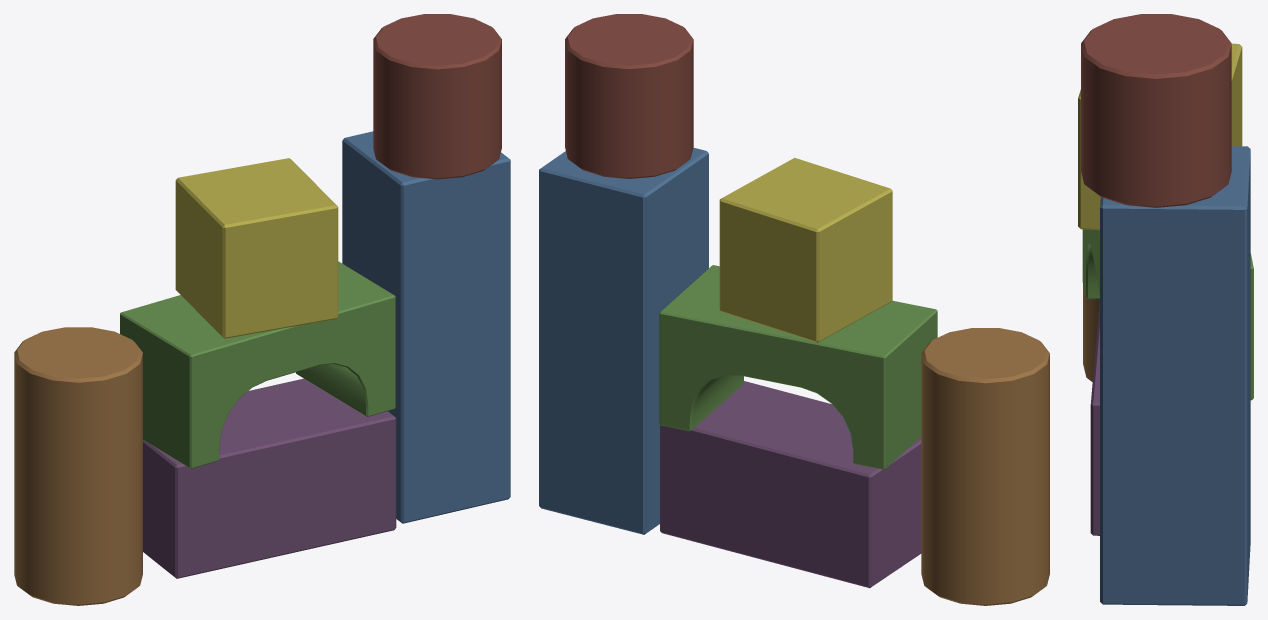
Rendered from Toy_Blocks.fbx.
The picture shows the model from 3 angles, left to right: view 1: azimuth 30°, elevation 25°; view 2: azimuth 150°, elevation 25°; view 3: azimuth 270°, elevation 25°; orthographic projection. The views are drawn at different scales.
Visible parts, largest first — view 1: Blue_3, Purple_2, Orange_Cyl_2, Green_Arch, Yellow_1, Red_Cyl_1; view 2: Blue_3, Purple_2, Orange_Cyl_2, Green_Arch, Yellow_1, Red_Cyl_1; view 3: Blue_3, Red_Cyl_1, Yellow_1, Purple_2, Green_Arch, Orange_Cyl_2.
Part boxes in pixels (box(x1,y1,x2,y2)): Blue_3: box(342, 131, 510, 523); Purple_2: box(143, 378, 396, 578); Orange_Cyl_2: box(14, 327, 142, 605); Green_Arch: box(120, 261, 395, 468); Yellow_1: box(175, 158, 338, 338); Red_Cyl_1: box(373, 14, 501, 179); Blue_3: box(539, 147, 708, 534); Purple_2: box(660, 381, 921, 588); Orange_Cyl_2: box(921, 328, 1049, 605); Green_Arch: box(659, 265, 937, 469); Yellow_1: box(719, 157, 892, 342); Red_Cyl_1: box(565, 14, 693, 178); Blue_3: box(1100, 146, 1250, 605); Red_Cyl_1: box(1081, 14, 1231, 207); Yellow_1: box(1078, 43, 1242, 230); Purple_2: box(1090, 300, 1099, 535); Green_Arch: box(1082, 229, 1253, 400); Orange_Cyl_2: box(1083, 284, 1099, 381).
Size of the model in its own units: 53.62 by 49.68 by 14.84.
